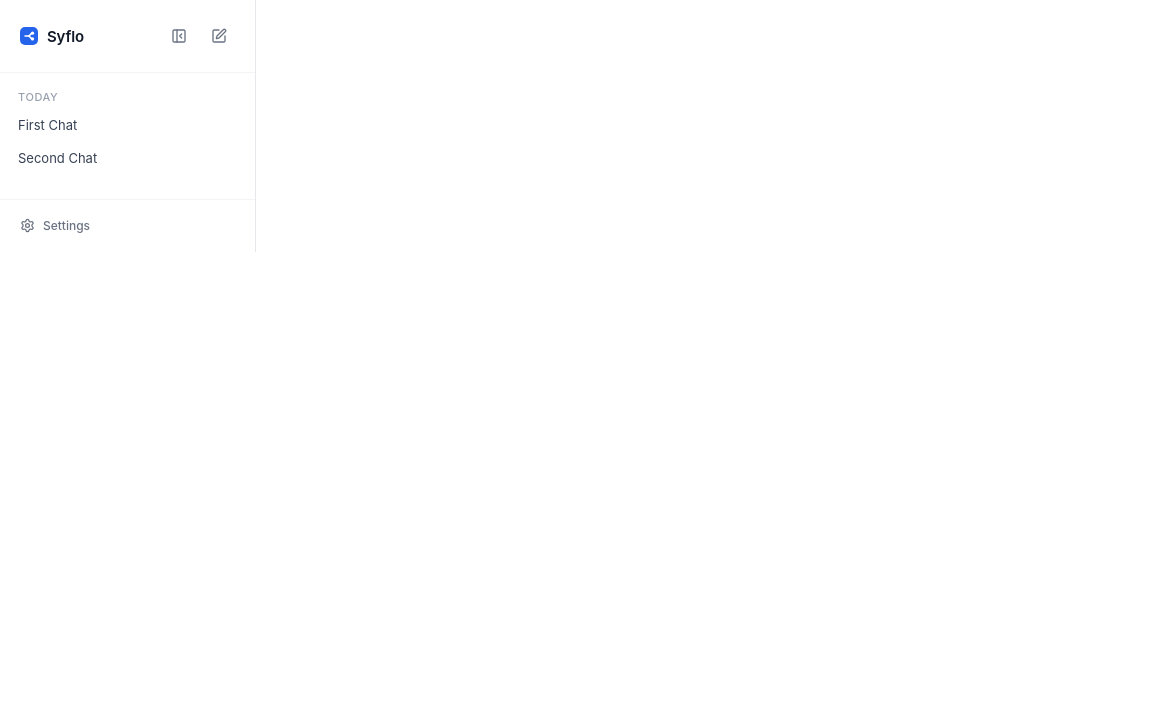
Scenario: Sidebar › cancel in the confirmation dialog closes it without deleting
This screenshot has width=1152, height=720.
Right-click the text "First Chat" at (48, 124), box [18,116,77,132]
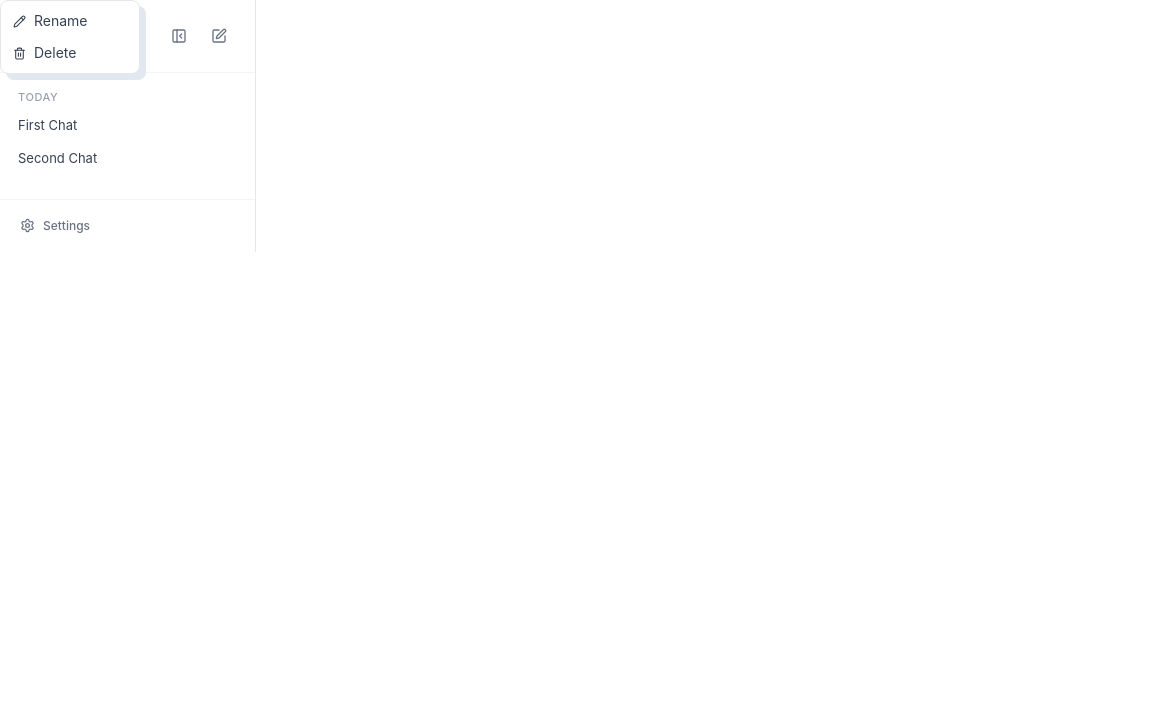
Click the button "Delete" at (70, 53), box [1,37,139,69]
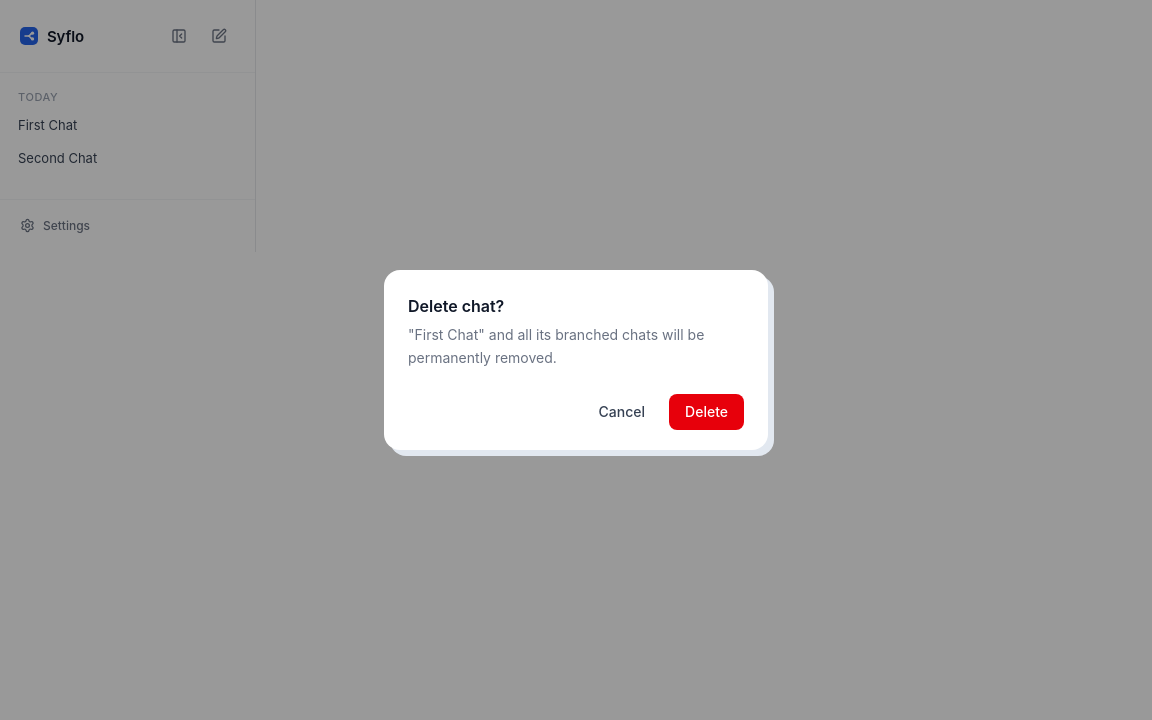
Click the button "Cancel" at (622, 412), box [583,394,661,430]
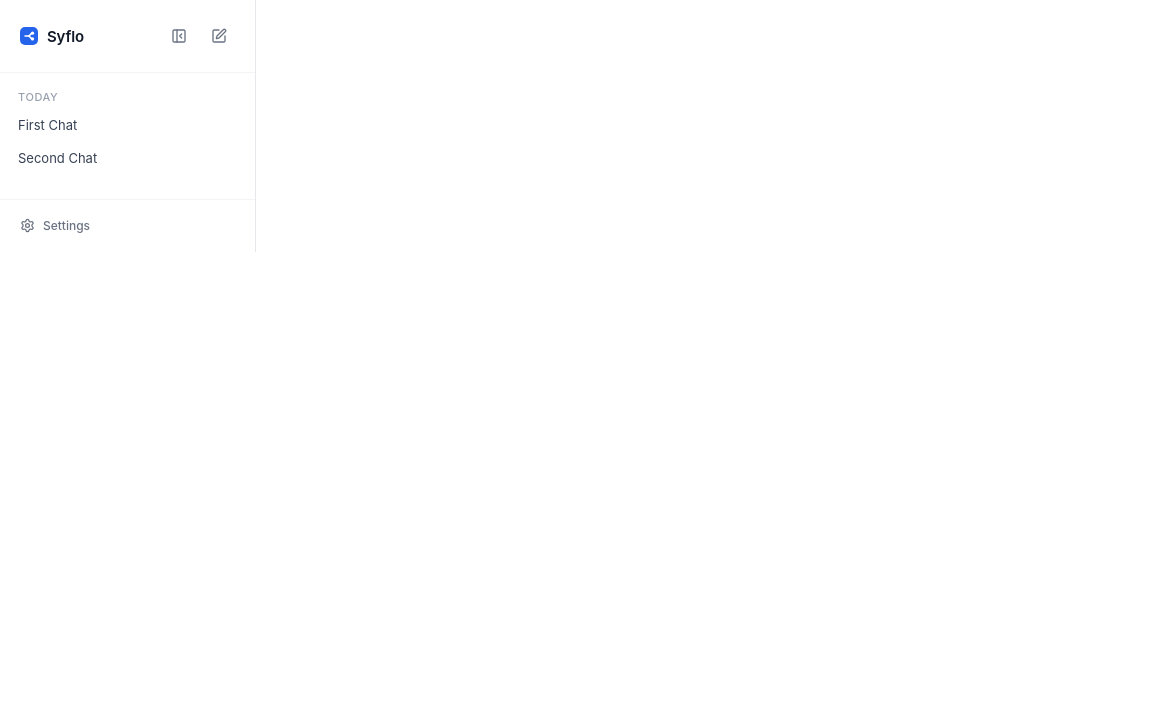
Now the heading "Delete chat?" is gone
